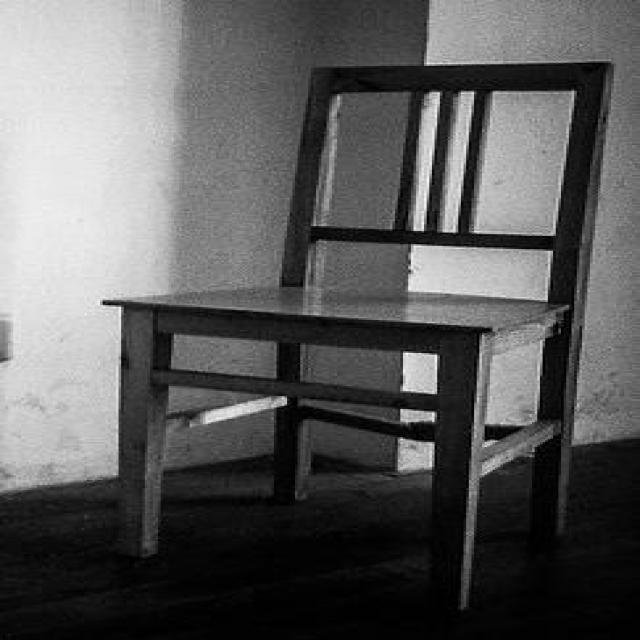chair: (99, 60, 618, 606)
